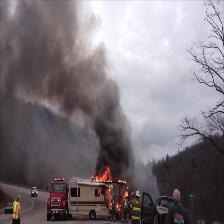fire: (94, 167, 112, 181)
smoke: (8, 4, 86, 98), (88, 72, 129, 165)
